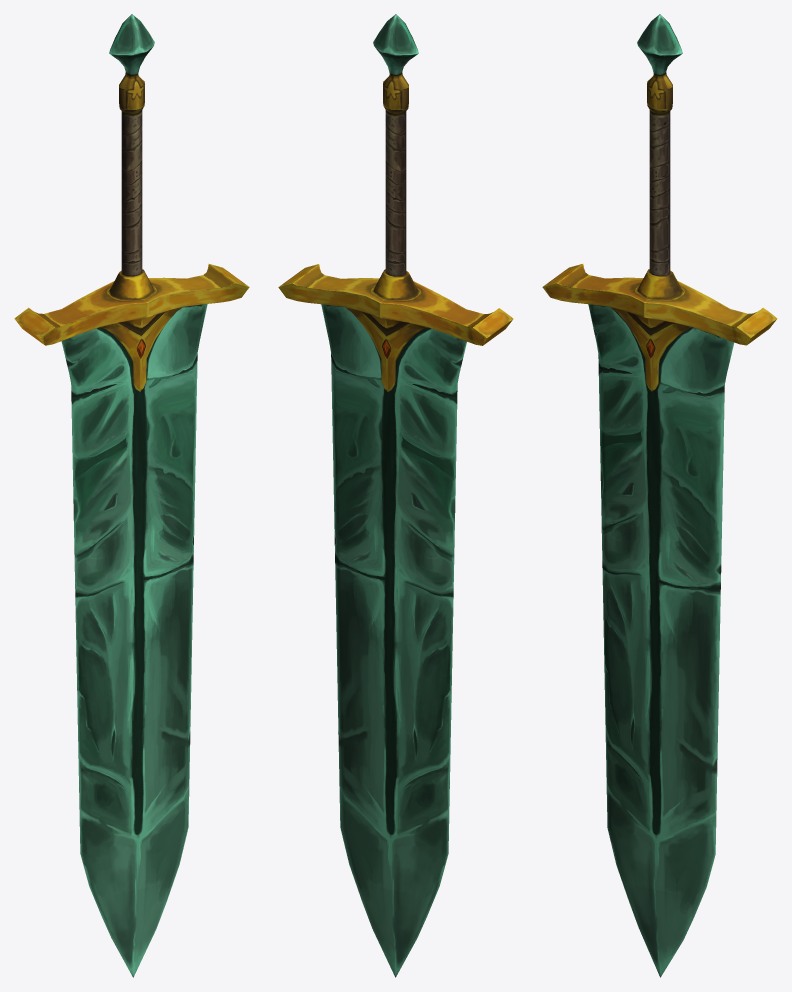
Rendered from espadadeCristal.fbx.
3 renders of one model, left to right at view 1: azimuth 30°, elevation 25°; view 2: azimuth 150°, elevation 25°; view 3: azimuth 330°, elevation 25°, orthographic.
Parts seen in each view (by area): view 1: Espada_de_Cristal_vesão_02_OFICIAL; view 2: Espada_de_Cristal_vesão_02_OFICIAL; view 3: Espada_de_Cristal_vesão_02_OFICIAL.
Boxes of the visible parts, x1=… form: Espada_de_Cristal_vesão_02_OFICIAL: x1=14, y1=14, x2=249, y2=977; Espada_de_Cristal_vesão_02_OFICIAL: x1=278, y1=14, x2=513, y2=977; Espada_de_Cristal_vesão_02_OFICIAL: x1=542, y1=14, x2=777, y2=977.
Size of the model in its own units: 3.69 by 16.28 by 0.9609.
Materials: 1 (1 with a texture image).
